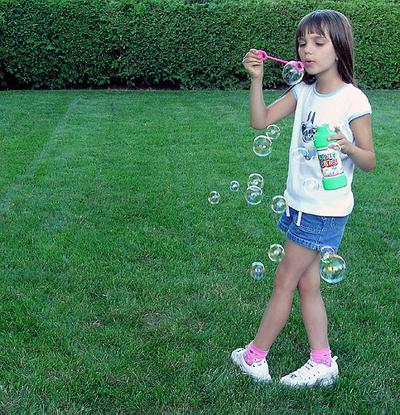person: (229, 11, 374, 394)
